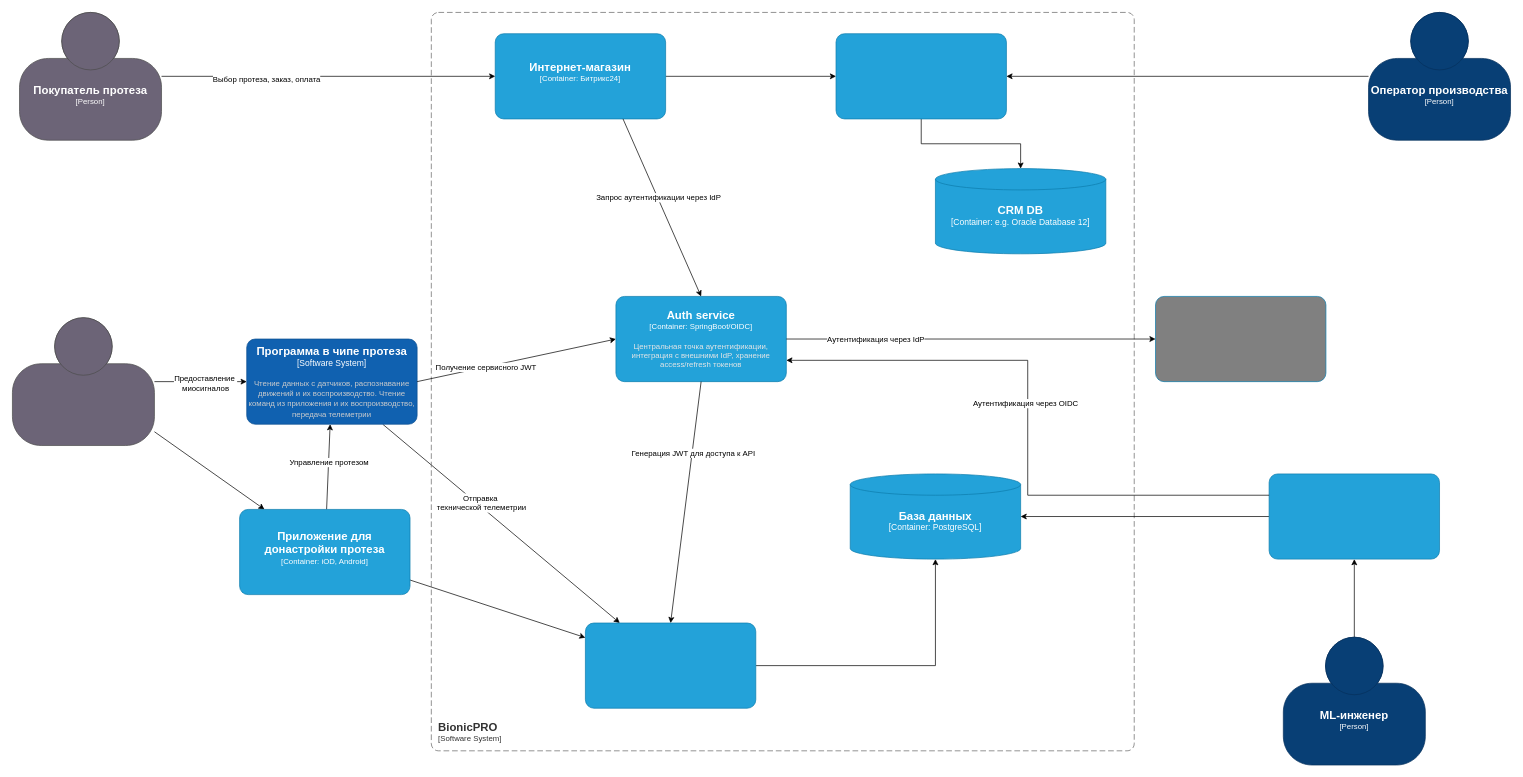
The diagram is 1523 pixels wide and 777 high, and some of its shapes have lost their labels. Each missing label, with the centre of its shape:
"API [Container: e.g. SpringBoot, ElasticSearch, etc.]" goes at point (670, 665).
"cli tool [Container: e.g. SpringBoot, ElasticSearch, etc.]" goes at point (1354, 516).
"CRM [Container: Битрикс24]" goes at point (920, 76).
"Внешний Idp [Container: Idp]" goes at point (1240, 339).
"Пилот протеза [Person] С этого человека считываются данные" goes at point (83, 381).
